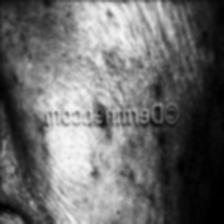Non-Cancerous Skin Condition: (31, 0, 224, 95), (59, 128, 211, 224)
